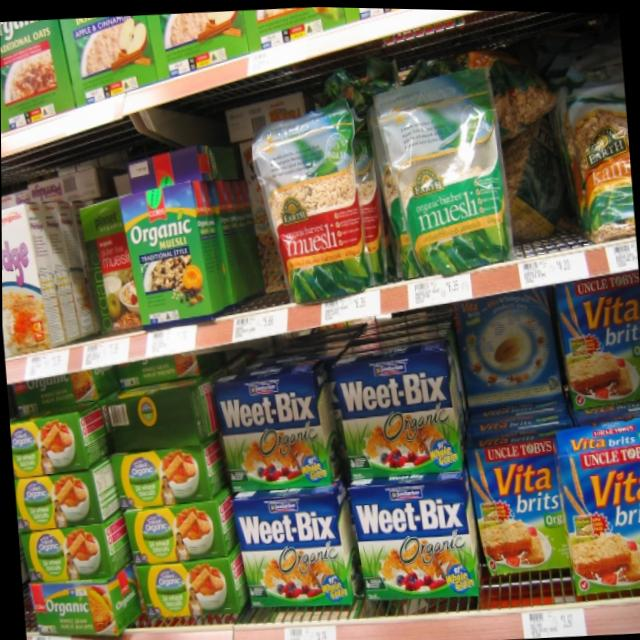q7: (333, 343, 470, 485), (212, 362, 339, 503), (228, 488, 357, 618), (354, 475, 479, 609)
